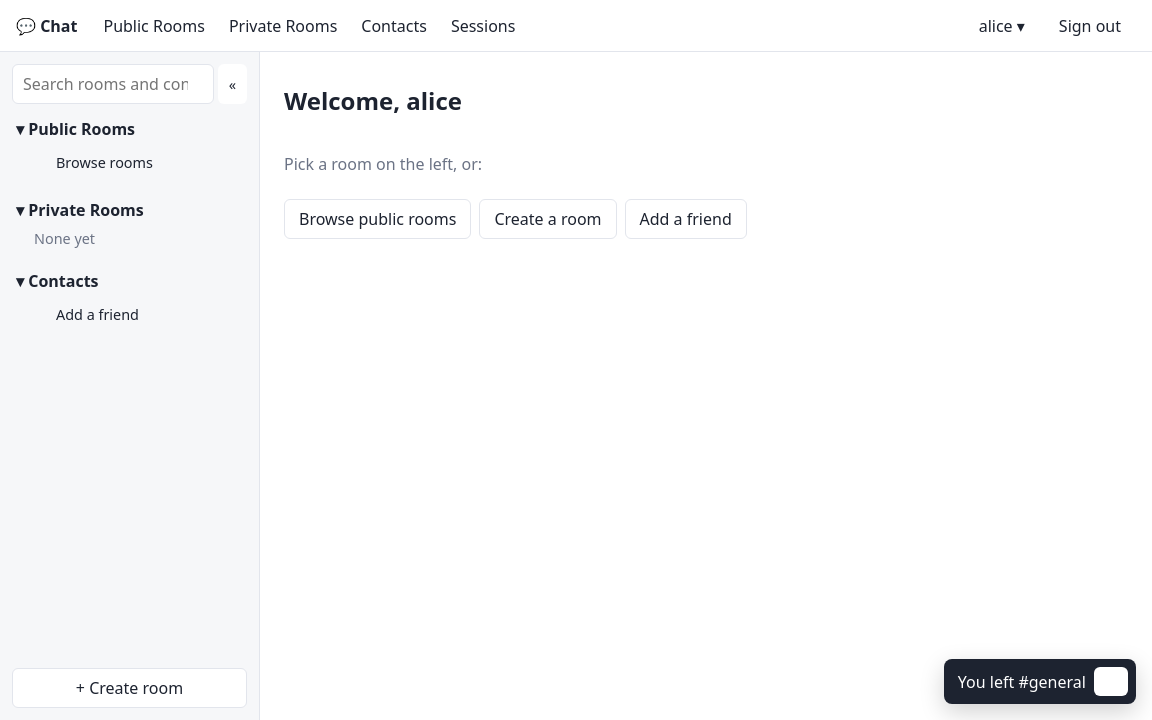
Scenario: catalog › searches with the query from the nav sidebar
The image size is (1152, 720).
Type "rust" into the search field labelled "Search rooms" at (113, 84), box left=12, top=64, right=214, bottom=104
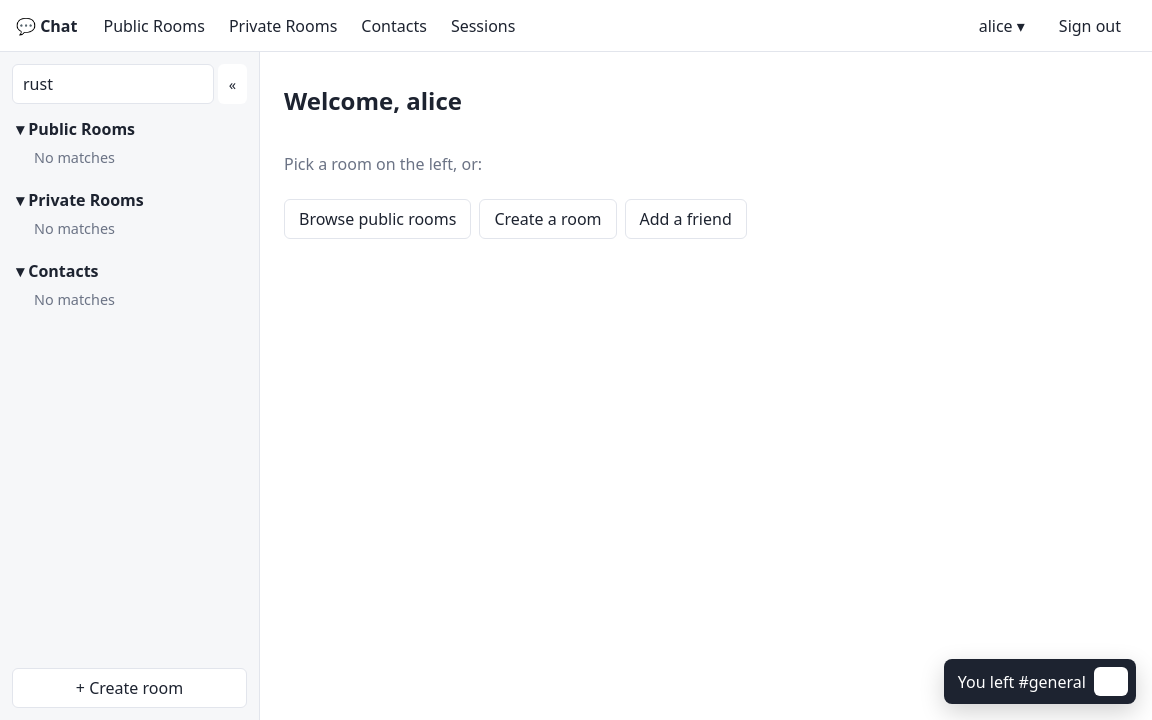
Press Enter in the search field named "Search rooms", box left=12, top=64, right=214, bottom=104
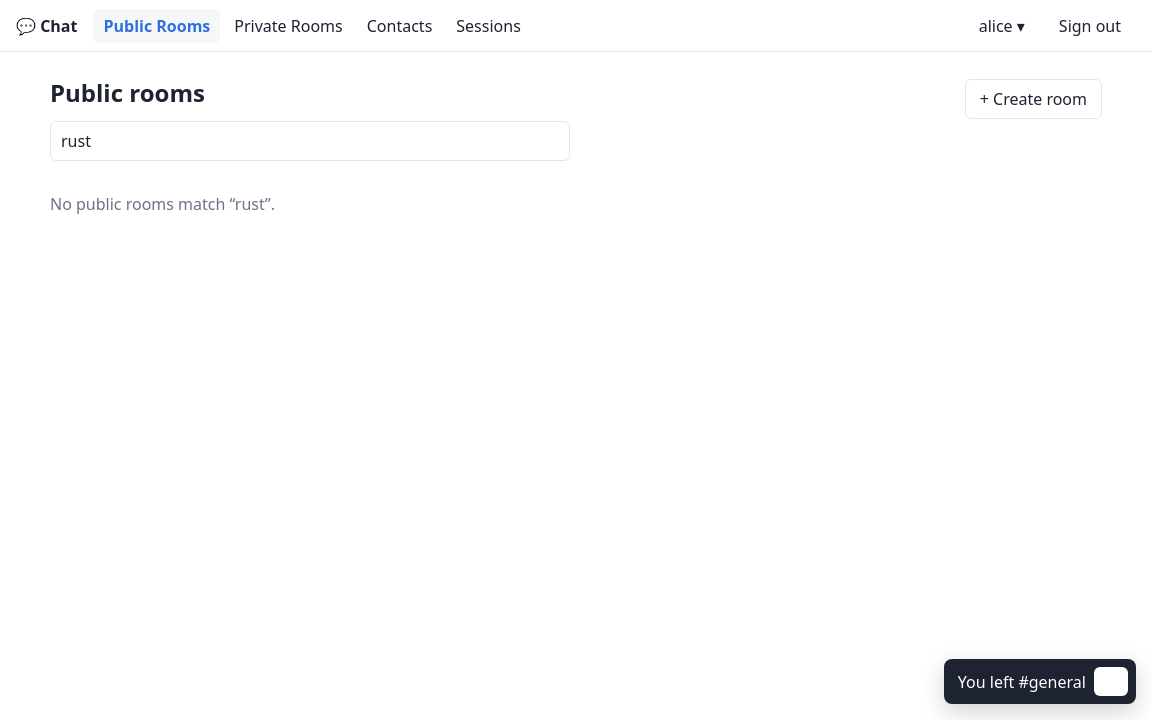
Result: the text "No public rooms match “rust”." is shown at left=50, top=193, right=275, bottom=215
